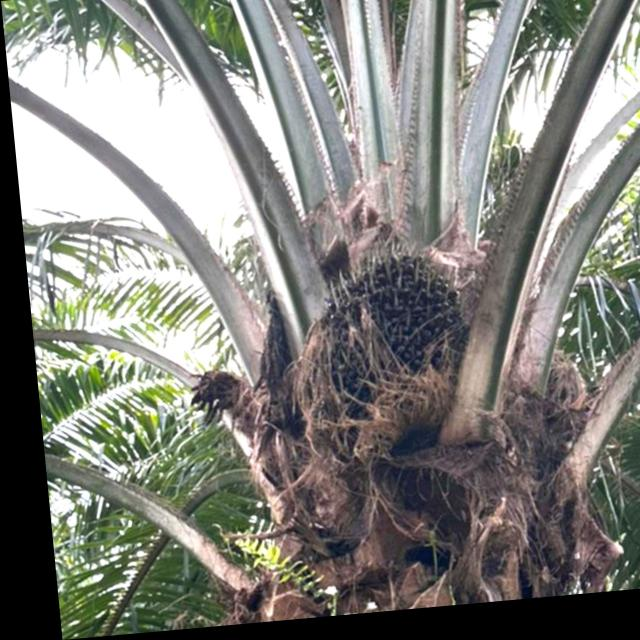almost: (272, 244, 485, 474)
